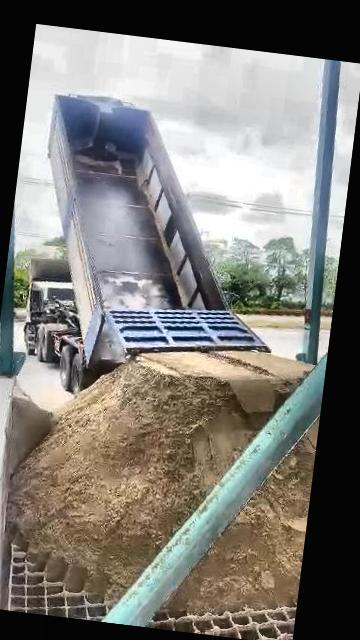sand: (9, 352, 307, 599), (170, 426, 318, 613), (7, 386, 54, 475)
